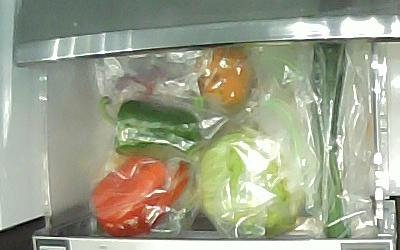cucumber_vinyl: (311, 42, 351, 239)
lettuce_vinyl: (197, 132, 303, 232)
paprika_vinyl: (90, 153, 188, 231), (97, 95, 204, 158)
peach_vinyl: (193, 50, 250, 107)
